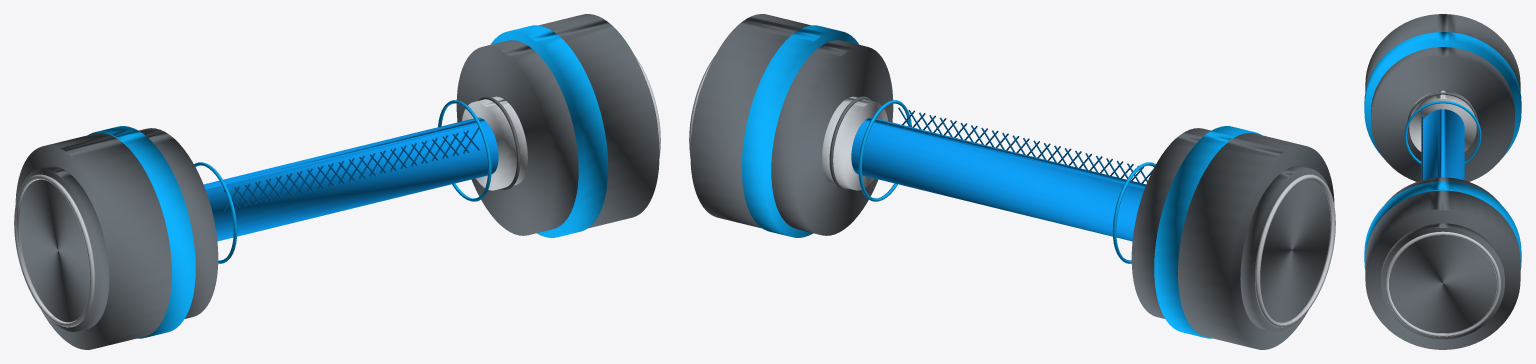
Rendered from Kurzhantel_3D.glb.
3 views of the same model, side by side, from view 1: azimuth 30°, elevation 25°; view 2: azimuth 150°, elevation 25°; view 3: azimuth 270°, elevation 25° (orthographic). The views are drawn at different scales.
Parts seen in each view (by area): view 1: Kurzhantel_3D__web_dark_graphite_dumbbell_weight_plates, Kurzhantel_3D__web_blue_knurled_dumbbell_grip, Kurzhantel_3D__web_bright_blue_dumbbell_rubber_accents, Kurzhantel_3D__web_satin_steel_dumbbell_collars, Kurzhantel_3D__web_dark_blue_dumbbell_grip_diamond_cuts; view 2: Kurzhantel_3D__web_dark_graphite_dumbbell_weight_plates, Kurzhantel_3D__web_blue_knurled_dumbbell_grip, Kurzhantel_3D__web_bright_blue_dumbbell_rubber_accents, Kurzhantel_3D__web_satin_steel_dumbbell_collars, Kurzhantel_3D__web_dark_blue_dumbbell_grip_diamond_cuts; view 3: Kurzhantel_3D__web_dark_graphite_dumbbell_weight_plates, Kurzhantel_3D__web_bright_blue_dumbbell_rubber_accents, Kurzhantel_3D__web_satin_steel_dumbbell_collars, Kurzhantel_3D__web_blue_knurled_dumbbell_grip, Kurzhantel_3D__web_dark_blue_dumbbell_grip_diamond_cuts.
Boxes of the visible parts, x1,y1,x2,y2 form: Kurzhantel_3D__web_dark_graphite_dumbbell_weight_plates: (15, 14, 659, 349); Kurzhantel_3D__web_blue_knurled_dumbbell_grip: (203, 117, 498, 241); Kurzhantel_3D__web_bright_blue_dumbbell_rubber_accents: (88, 25, 608, 338); Kurzhantel_3D__web_satin_steel_dumbbell_collars: (14, 56, 660, 327); Kurzhantel_3D__web_dark_blue_dumbbell_grip_diamond_cuts: (223, 127, 479, 211); Kurzhantel_3D__web_dark_graphite_dumbbell_weight_plates: (690, 14, 1334, 349); Kurzhantel_3D__web_blue_knurled_dumbbell_grip: (851, 117, 1146, 241); Kurzhantel_3D__web_bright_blue_dumbbell_rubber_accents: (741, 25, 1261, 338); Kurzhantel_3D__web_satin_steel_dumbbell_collars: (689, 56, 1335, 327); Kurzhantel_3D__web_dark_blue_dumbbell_grip_diamond_cuts: (898, 107, 1152, 183); Kurzhantel_3D__web_dark_graphite_dumbbell_weight_plates: (1365, 14, 1520, 349); Kurzhantel_3D__web_bright_blue_dumbbell_rubber_accents: (1364, 32, 1521, 269); Kurzhantel_3D__web_satin_steel_dumbbell_collars: (1385, 90, 1500, 336); Kurzhantel_3D__web_blue_knurled_dumbbell_grip: (1423, 109, 1464, 180); Kurzhantel_3D__web_dark_blue_dumbbell_grip_diamond_cuts: (1421, 111, 1422, 180).
Size of the model in its own units: 1.48 by 0.476 by 0.476.
